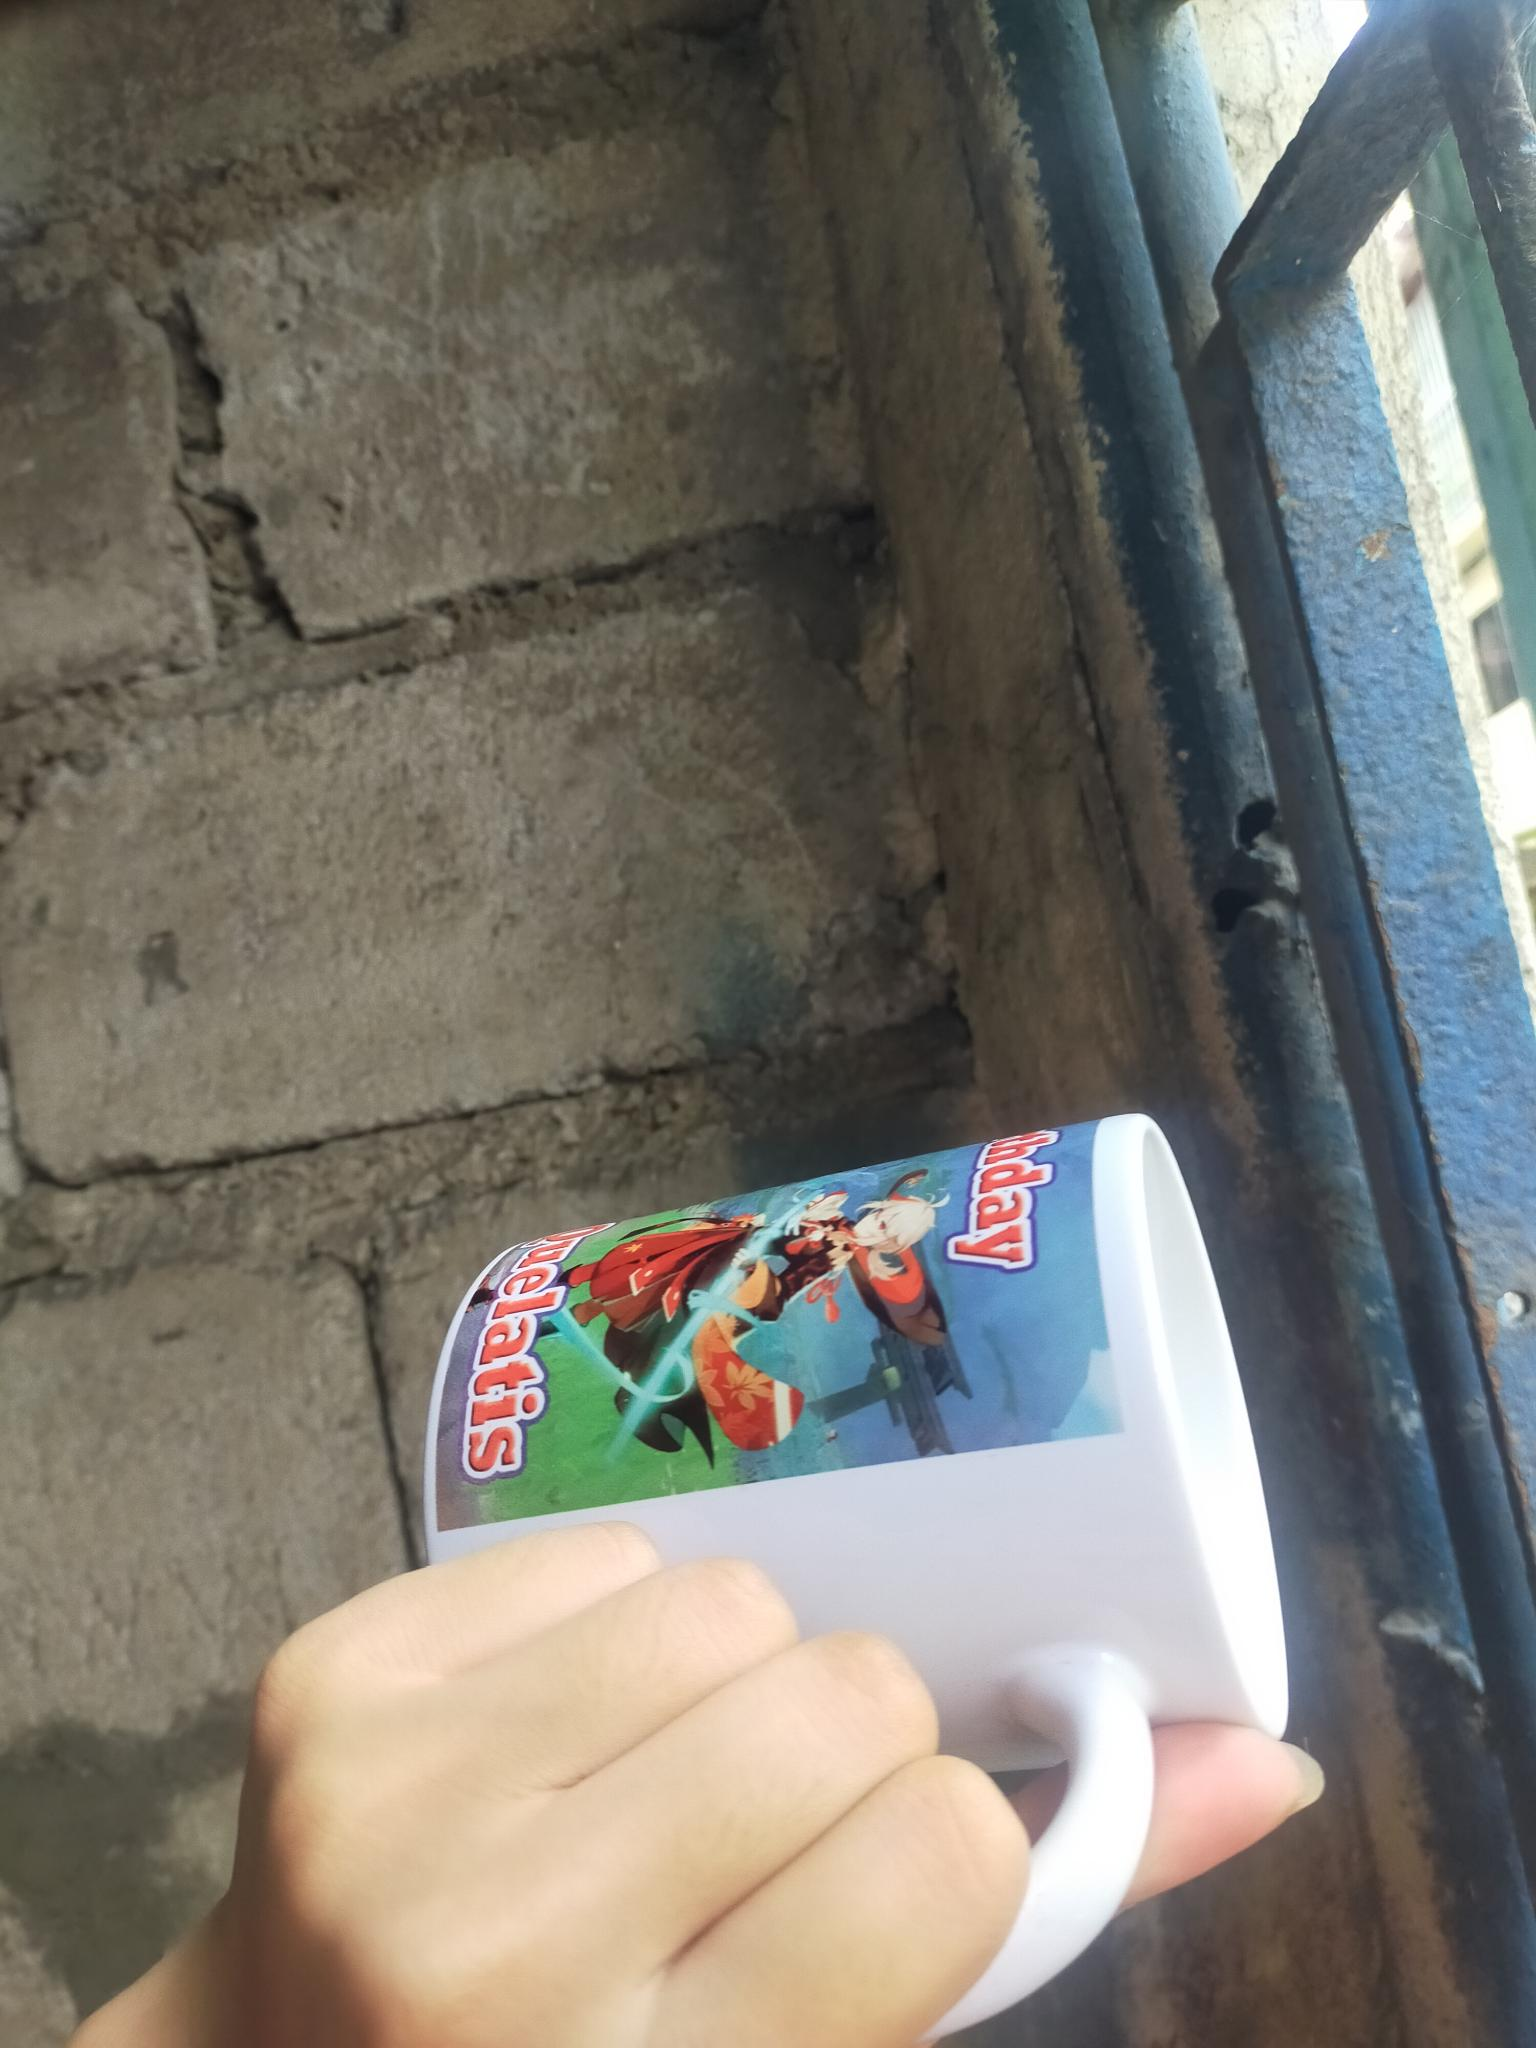Coffee Mug: (428, 1113, 1292, 2048)
